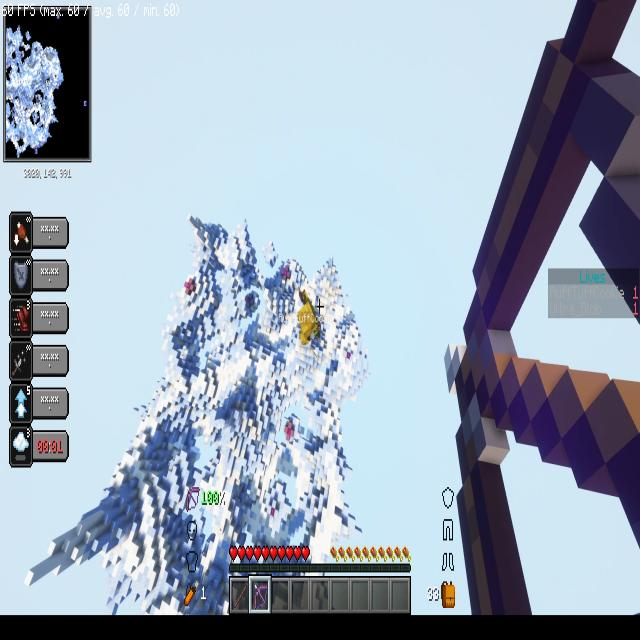Player: (293, 282, 326, 358)
